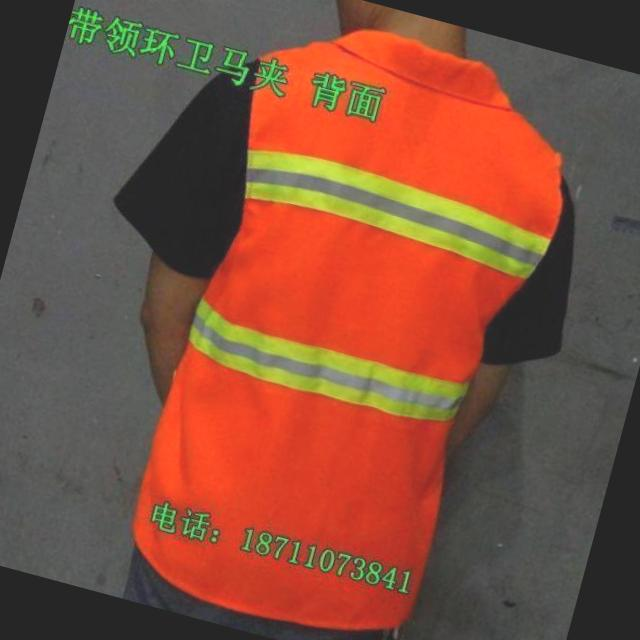vest: (155, 20, 550, 557)
